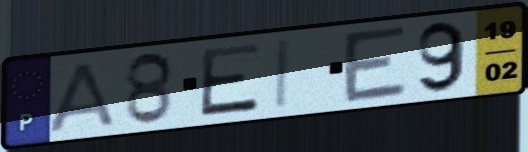8: (122, 49, 177, 128)
9: (416, 19, 470, 95)
A: (45, 59, 119, 134)
E: (341, 22, 411, 106), (196, 40, 263, 120)
I: (272, 36, 294, 112)
